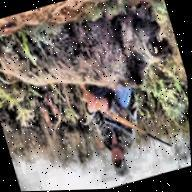boar: (0, 0, 180, 117)
